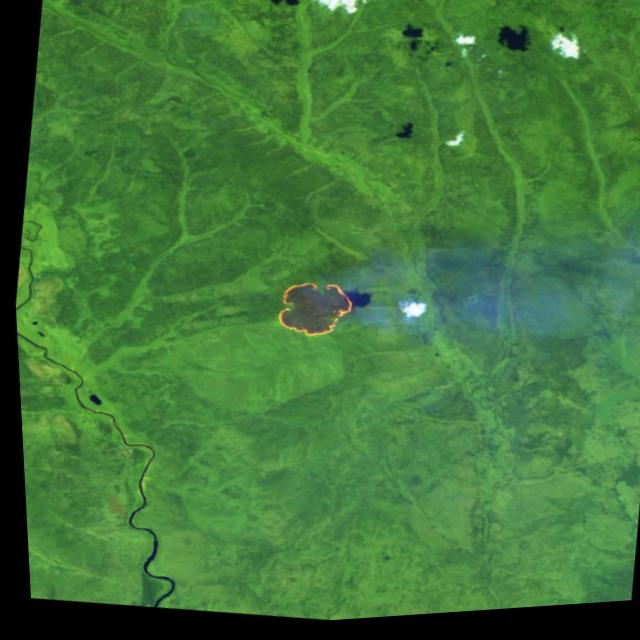fire: (262, 274, 359, 352)
